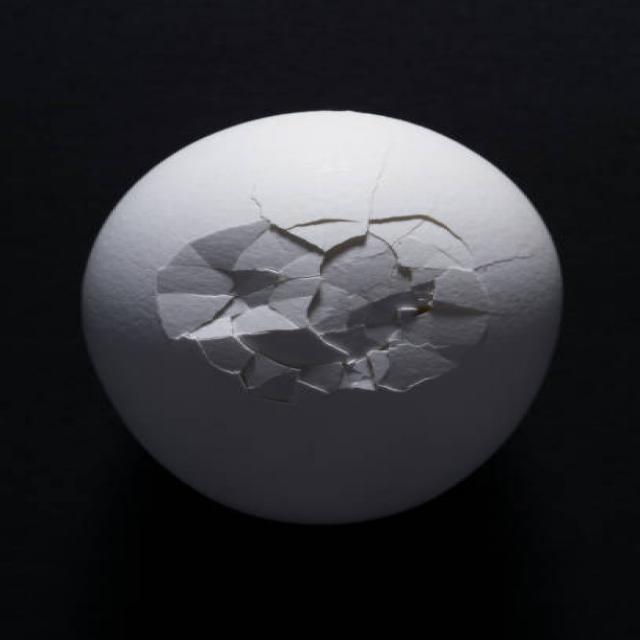biodegradable: (69, 110, 580, 529)
